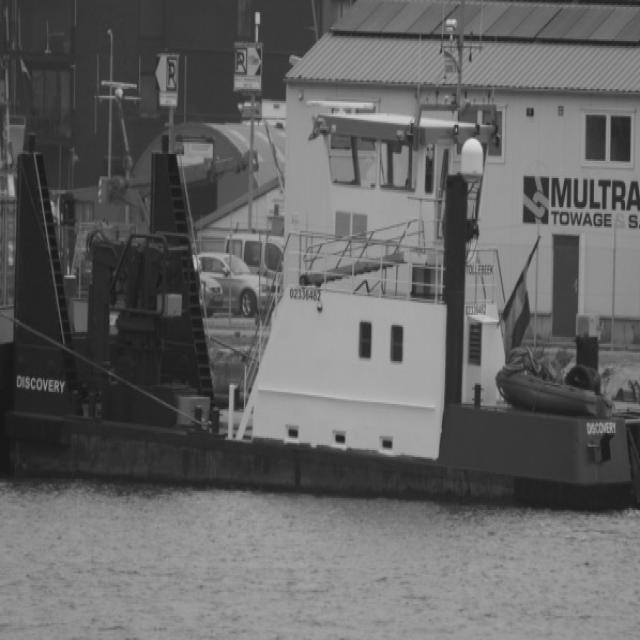tugboat: (222, 93, 640, 521)
